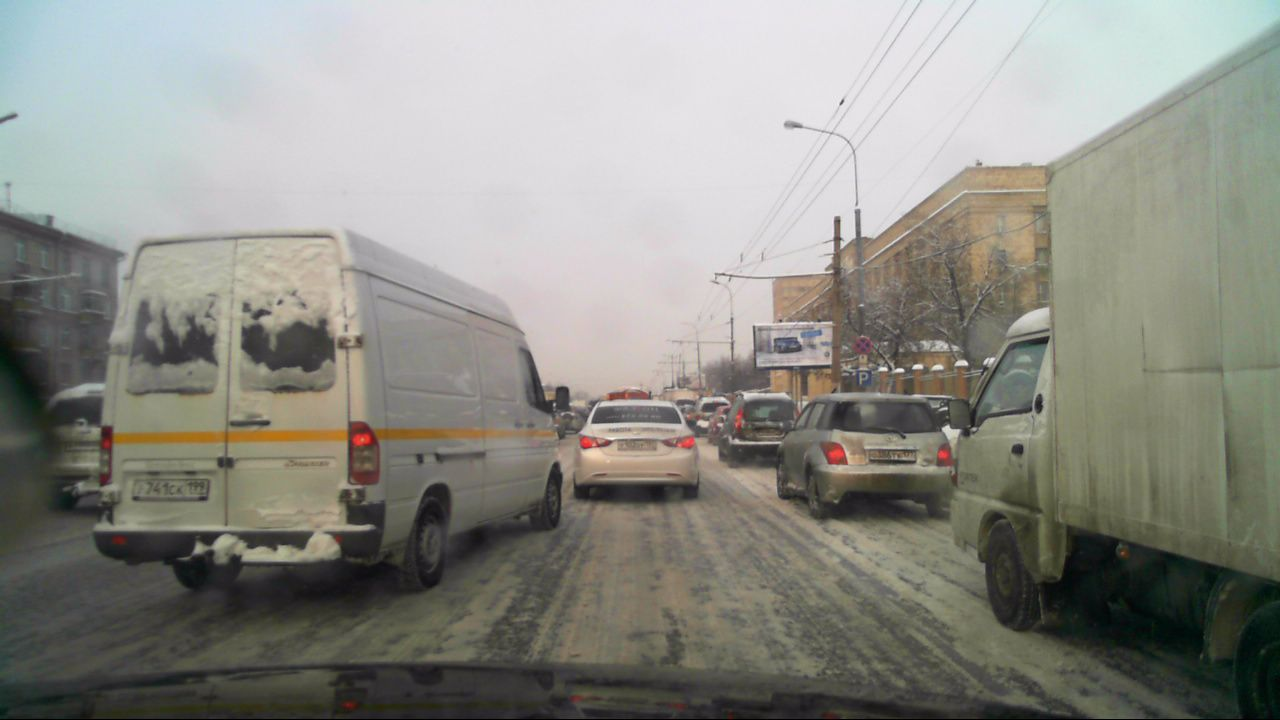No Parking: (849, 334, 872, 354)
